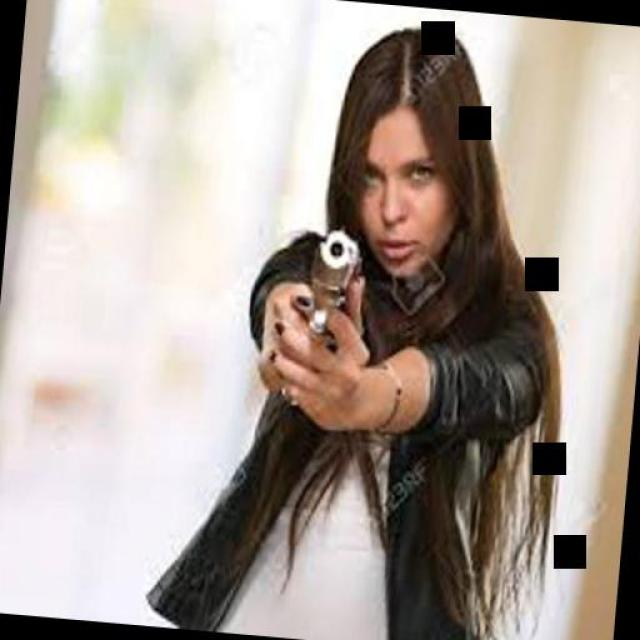gun: (304, 222, 376, 372)
